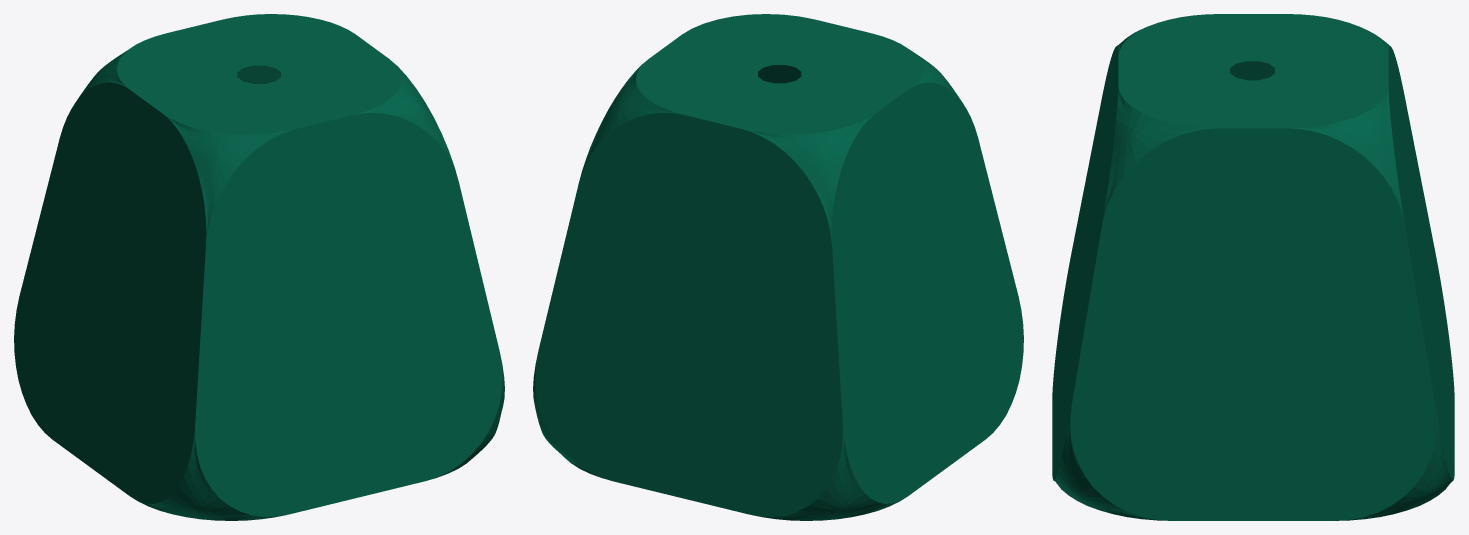
The model's file is snake_body.fbx.
3 views of the same model, side by side, from view 1: azimuth 30°, elevation 25°; view 2: azimuth 150°, elevation 25°; view 3: azimuth 270°, elevation 25° (orthographic). The views are drawn at different scales.
Visible parts, largest first — view 1: body; view 2: body; view 3: body.
Boxes of the visible parts, left/top/right/bottom form: body: left=14, top=14, right=504, bottom=520; body: left=533, top=14, right=1023, bottom=520; body: left=1052, top=14, right=1454, bottom=520.
Bounding box in the file's own units: 200 × 200 × 200.
